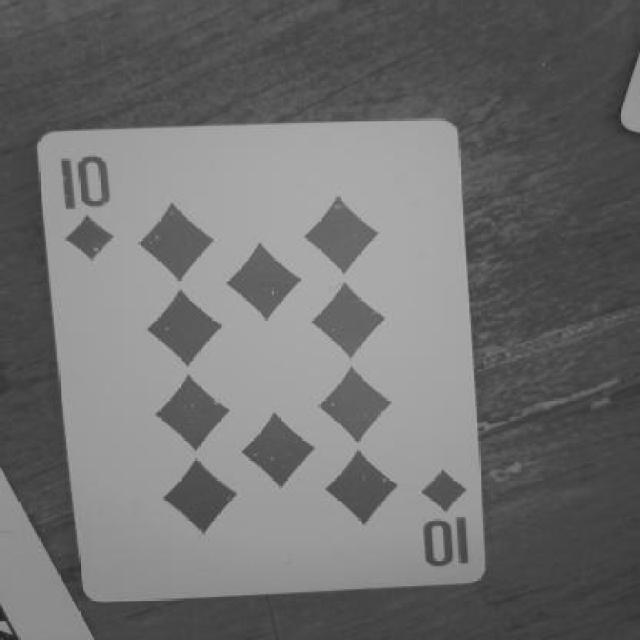10D: (48, 145, 135, 270), (410, 467, 482, 588)
